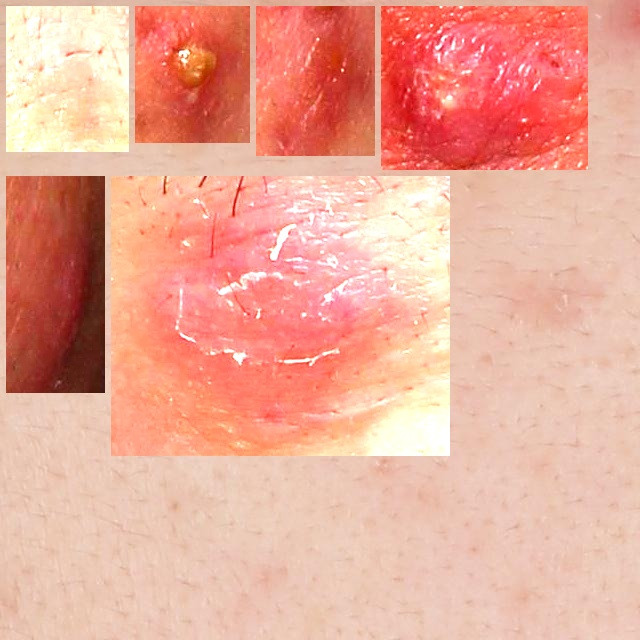nodule: (119, 184, 442, 448), (389, 14, 580, 162), (14, 184, 97, 385), (14, 14, 121, 144), (264, 14, 367, 148), (143, 14, 242, 135)
